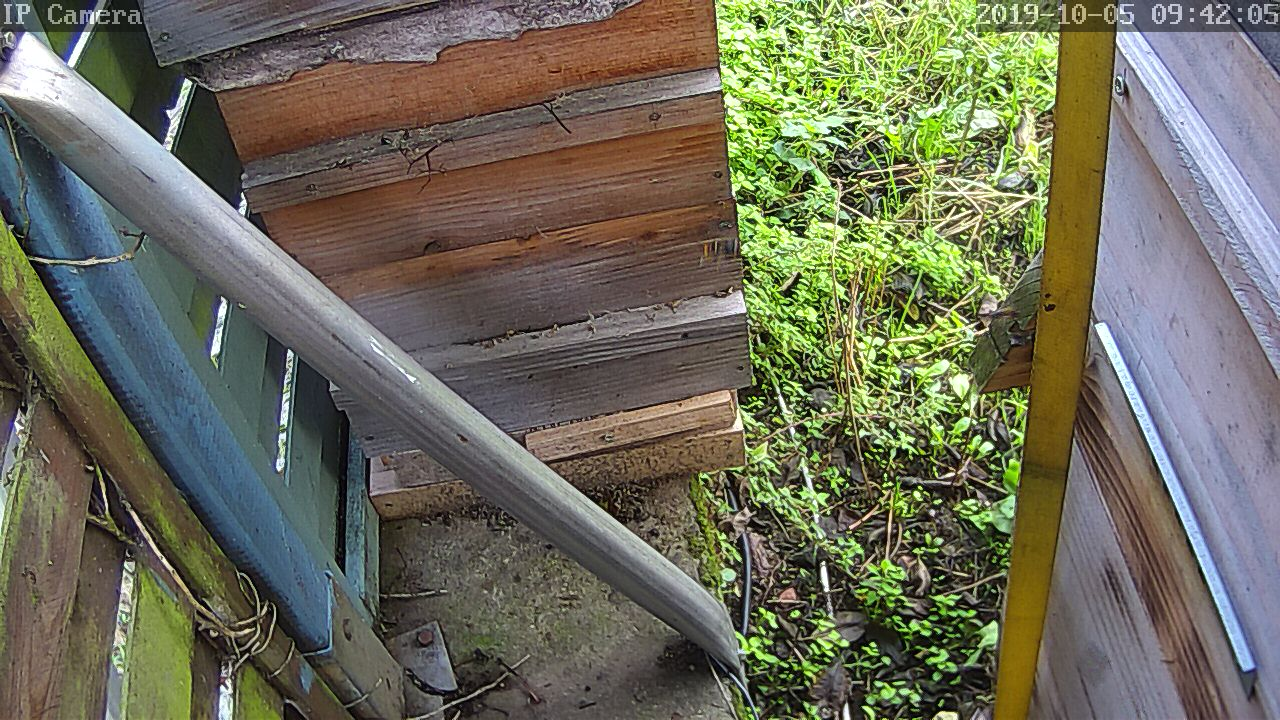hornet: (686, 229, 734, 269)
